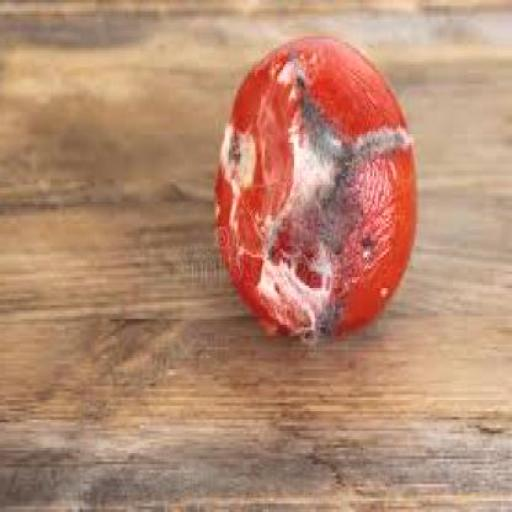biodegradable: (216, 34, 419, 338)
